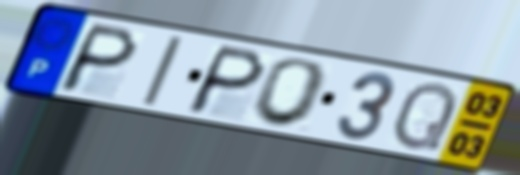3: (334, 70, 398, 143)
I: (138, 33, 187, 109)
O: (248, 55, 332, 131)
P: (182, 42, 270, 118), (54, 21, 143, 96)
Q: (390, 79, 461, 153)
